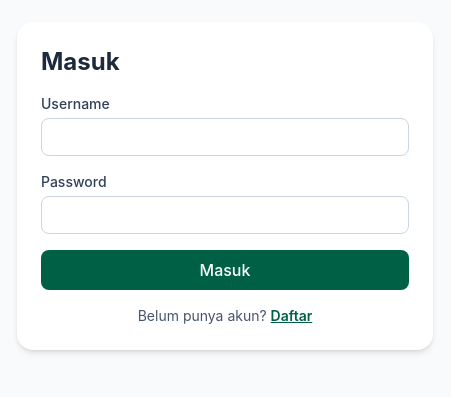
LoginPage › validasi: field kosong
This screenshot has width=451, height=397.
Click the button with id "login-submit": (225, 270) [41, 250, 409, 290]
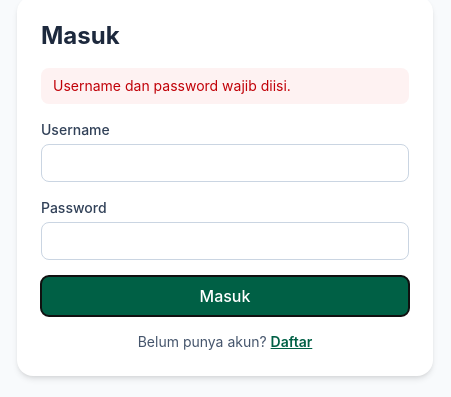
Now the message shows "wajib diisi", box [53, 77, 291, 94]
